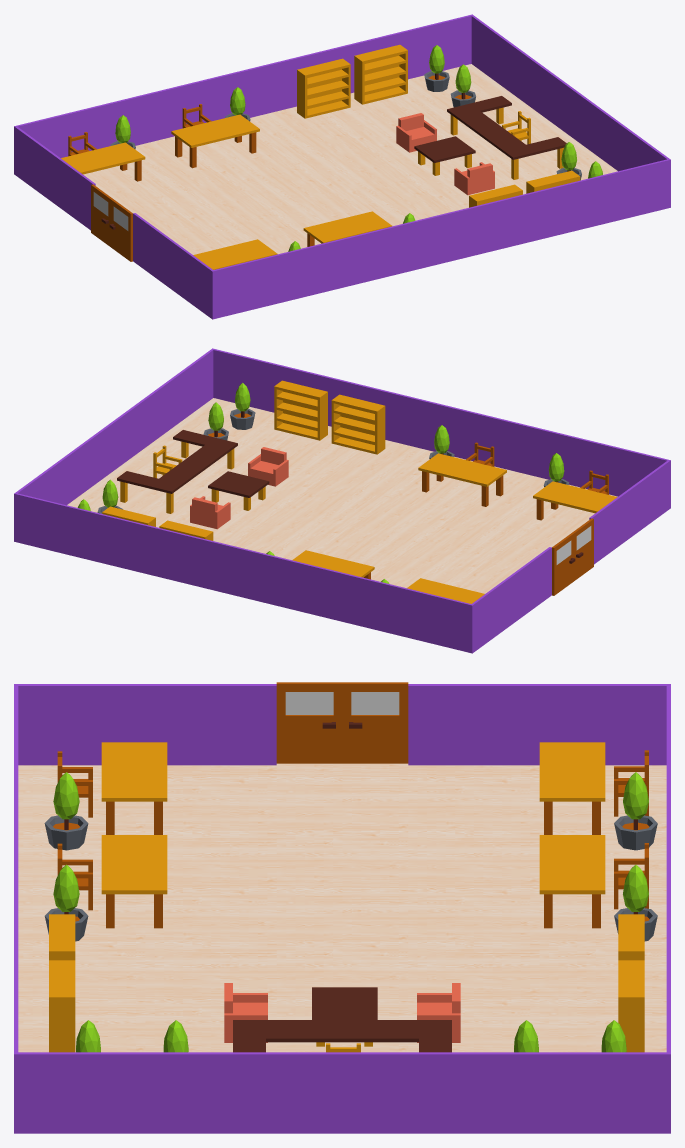
The model's file is 2_HeadTeacher.fbx.
3 views of the same model, one above another, from view 1: azimuth 30°, elevation 25°; view 2: azimuth 150°, elevation 25°; view 3: azimuth 270°, elevation 25° (orthographic). The views are drawn at different scales.
Visible parts, largest first — view 1: 1_HeadTeacher, 0_InnerGround.002, 0_Chair&Table.014, 0_Shelf, 0_Shelf.002, 0_Chair&Table.027, 0_Chair&Table.029, 0_Chair&Table.028, 0_Chair&Table.030, 0_Chair&Table.031, 0_Couch, 2_Door1Class.007 (+7 smaller); view 2: 1_HeadTeacher, 0_InnerGround.002, 0_Chair&Table.014, 0_Shelf.001, 0_Shelf.003, 0_Chair&Table.028, 0_Chair&Table.030, 0_Chair&Table.031, 0_Couch.001, 2_Door1Class.006, 0_Chair&Table.027, 0_Couch (+7 smaller); view 3: 0_InnerGround.002, 1_HeadTeacher, 0_Chair&Table.014, 2_Door1Class.006, 2_Door1Class.007, 0_Chair&Table.027, 0_Chair&Table.028, 0_Chair&Table.029, 0_Chair&Table.030, 0_Shelf.003, 0_Shelf.002, 0_Chair&Table.031 (+12 smaller).
Boxes of the visible parts, bbox=[...] form: 1_HeadTeacher: bbox=[14, 14, 670, 319]; 0_InnerGround.002: bbox=[83, 64, 617, 254]; 0_Chair&Table.014: bbox=[447, 96, 566, 179]; 0_Shelf: bbox=[297, 58, 350, 118]; 0_Shelf.002: bbox=[354, 44, 407, 104]; 0_Chair&Table.027: bbox=[171, 114, 259, 168]; 0_Chair&Table.029: bbox=[61, 142, 145, 181]; 0_Chair&Table.028: bbox=[303, 211, 391, 246]; 0_Chair&Table.030: bbox=[193, 239, 277, 269]; 0_Chair&Table.031: bbox=[414, 136, 475, 175]; 0_Couch: bbox=[396, 113, 436, 152]; 2_Door1Class.007: bbox=[109, 199, 132, 261]; 1_HeadTeacher: bbox=[14, 348, 670, 653]; 0_InnerGround.002: bbox=[67, 398, 617, 593]; 0_Chair&Table.014: bbox=[117, 430, 237, 513]; 0_Shelf.001: bbox=[331, 394, 385, 454]; 0_Shelf.003: bbox=[274, 380, 327, 440]; 0_Chair&Table.028: bbox=[418, 453, 506, 506]; 0_Chair&Table.030: bbox=[533, 481, 617, 520]; 0_Chair&Table.031: bbox=[208, 471, 269, 510]; 0_Couch.001: bbox=[248, 447, 288, 486]; 2_Door1Class.006: bbox=[552, 533, 575, 595]; 0_Chair&Table.027: bbox=[292, 550, 374, 579]; 0_Couch: bbox=[190, 496, 230, 529]; 0_InnerGround.002: bbox=[18, 763, 666, 1052]; 1_HeadTeacher: bbox=[14, 684, 670, 1133]; 0_Chair&Table.014: bbox=[233, 1020, 451, 1052]; 2_Door1Class.006: bbox=[342, 682, 408, 763]; 2_Door1Class.007: bbox=[276, 682, 342, 763]; 0_Chair&Table.027: bbox=[539, 835, 605, 928]; 0_Chair&Table.028: bbox=[101, 835, 167, 928]; 0_Chair&Table.029: bbox=[539, 742, 605, 834]; 0_Chair&Table.030: bbox=[101, 742, 167, 834]; 0_Shelf.003: bbox=[49, 960, 75, 1052]; 0_Shelf.002: bbox=[618, 960, 644, 1052]; 0_Chair&Table.031: bbox=[312, 987, 377, 1046].
Size of the model in its own units: 1500 by 2025 by 200.
Materials: 4 (2 with a texture image).
